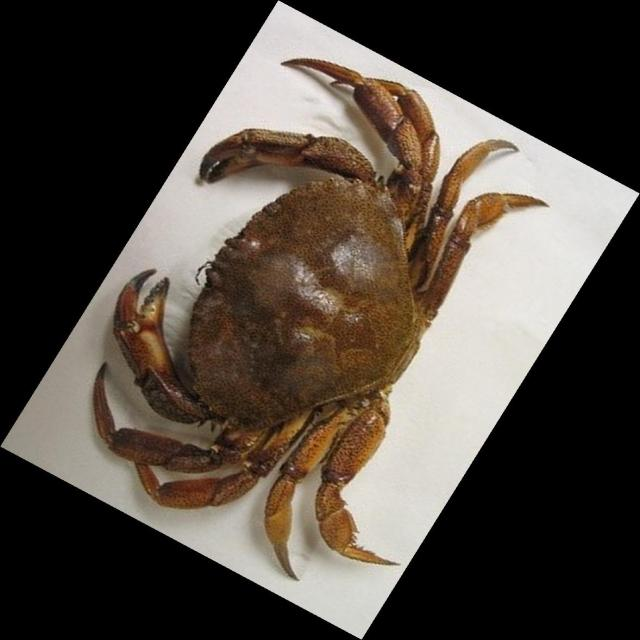Native Rock crab: (92, 58, 548, 579)
